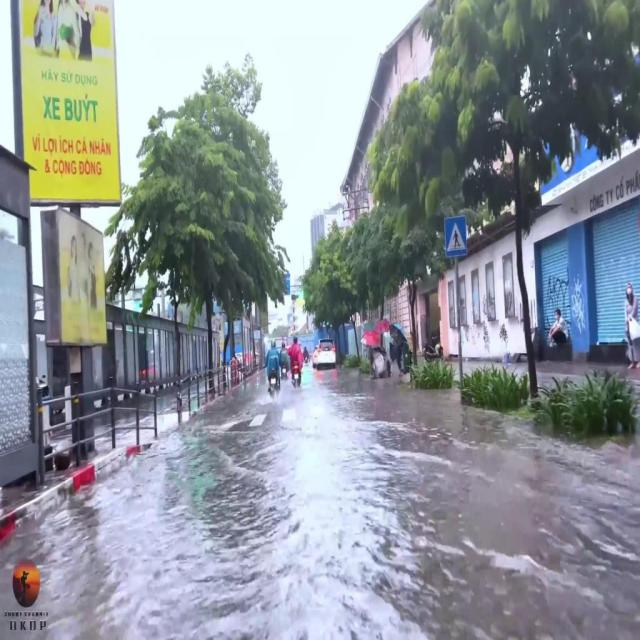duong_nguoi_di_bo_sang_ngang: (444, 217, 466, 256)
